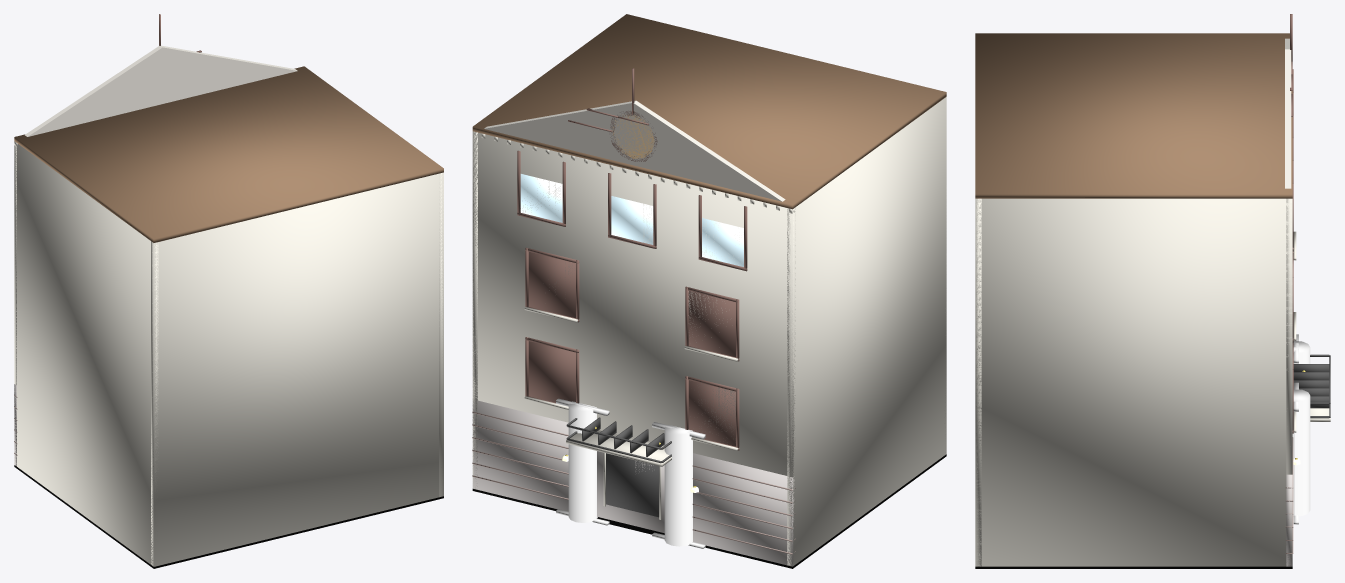
Rendered from Building_2_7.glb.
3 renders of one model, left to right at view 1: azimuth 30°, elevation 25°; view 2: azimuth 150°, elevation 25°; view 3: azimuth 270°, elevation 25°, orthographic. The views are drawn at different scales.
Parts seen in each view (by area): view 1: Walls.Back, Walls.Left, Walls.Roof, Pediment.Back, Walls.Right, Walls.Floor0, Walls.Front, Pediment.SideL; view 2: Walls.Front, Walls.Left, Walls.Roof, Pediment.Front, Walls.Ground.L, Walls.Ground.R, Columns.-0.45, Columns.0.45, Entrance.Door, Lower_Windows.F3_0.75.Rec, Lower_Windows.F3_-0.75.Rec, Lower_Windows.F2_-0.75.Rec (+10 smaller); view 3: Walls.Right, Walls.Roof, Walls.Back, Columns.0.45, Walls.Front, Pediment.SideR, Walls.Floor0, Walls.Ground.R.
Boxes of the visible parts, left/top/right/bottom form: Walls.Back: left=151, top=172, right=443, bottom=566; Walls.Left: left=14, top=144, right=158, bottom=566; Walls.Roof: left=14, top=66, right=443, bottom=242; Pediment.Back: left=28, top=47, right=297, bottom=136; Walls.Right: left=439, top=173, right=443, bottom=497; Walls.Floor0: left=14, top=465, right=443, bottom=568; Walls.Front: left=14, top=145, right=16, bottom=385; Pediment.SideL: left=25, top=46, right=162, bottom=136; Walls.Front: left=472, top=131, right=795, bottom=477; Walls.Left: left=787, top=97, right=946, bottom=565; Walls.Roof: left=472, top=14, right=946, bottom=209; Pediment.Front: left=484, top=103, right=781, bottom=201; Walls.Ground.L: left=693, top=453, right=794, bottom=566; Walls.Ground.R: left=472, top=400, right=568, bottom=511; Columns.-0.45: left=664, top=425, right=692, bottom=546; Columns.0.45: left=568, top=401, right=597, bottom=522; Entrance.Door: left=606, top=453, right=659, bottom=517; Lower_Windows.F3_0.75.Rec: left=528, top=252, right=575, bottom=318; Lower_Windows.F3_-0.75.Rec: left=688, top=291, right=735, bottom=357; Lower_Windows.F2_-0.75.Rec: left=688, top=380, right=735, bottom=446; Walls.Right: left=975, top=198, right=1292, bottom=566; Walls.Roof: left=975, top=33, right=1292, bottom=198; Walls.Back: left=975, top=198, right=981, bottom=566; Columns.0.45: left=1292, top=389, right=1310, bottom=516; Walls.Front: left=1286, top=198, right=1292, bottom=474; Pediment.SideR: left=1285, top=49, right=1291, bottom=188; Walls.Floor0: left=975, top=566, right=1292, bottom=568; Walls.Ground.R: left=1286, top=474, right=1292, bottom=566.
Size of the model in its own units: 3 by 4.13 by 2.8.
